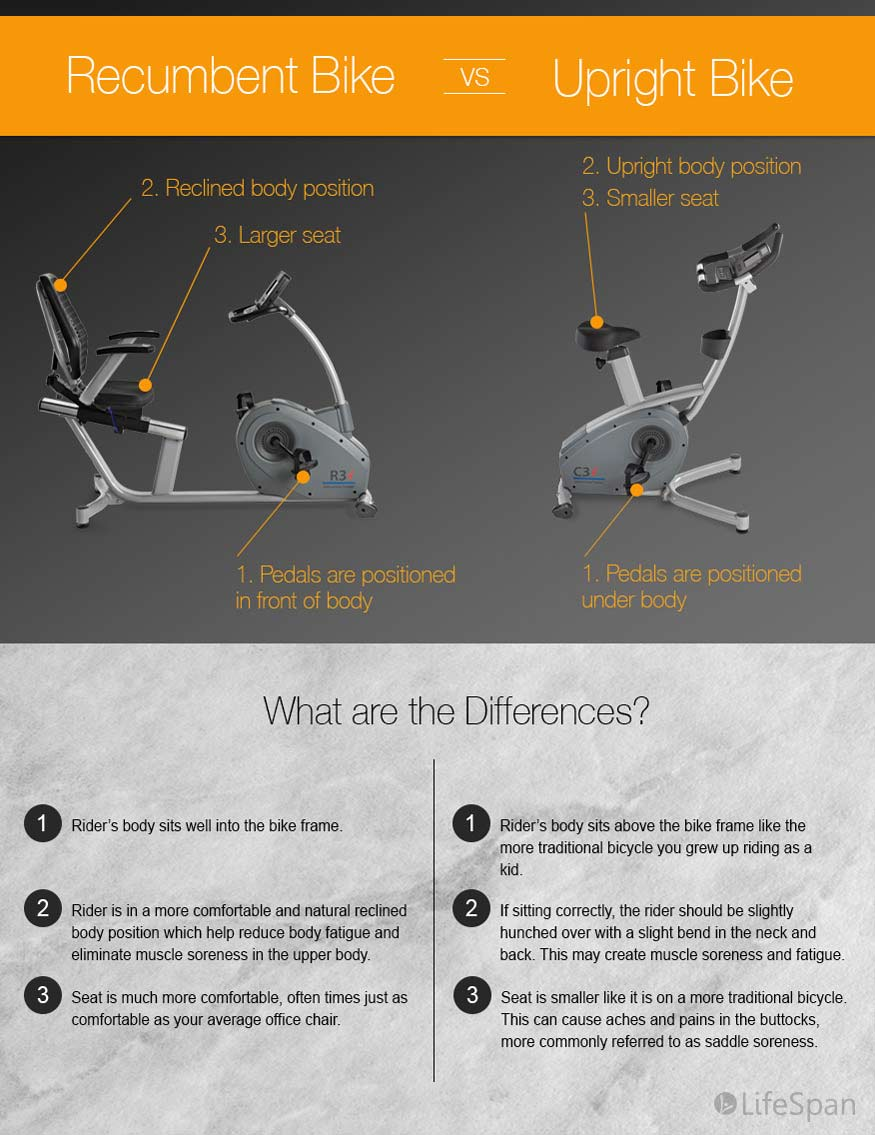gym_bike: (22, 261, 389, 536), (534, 219, 794, 533)
